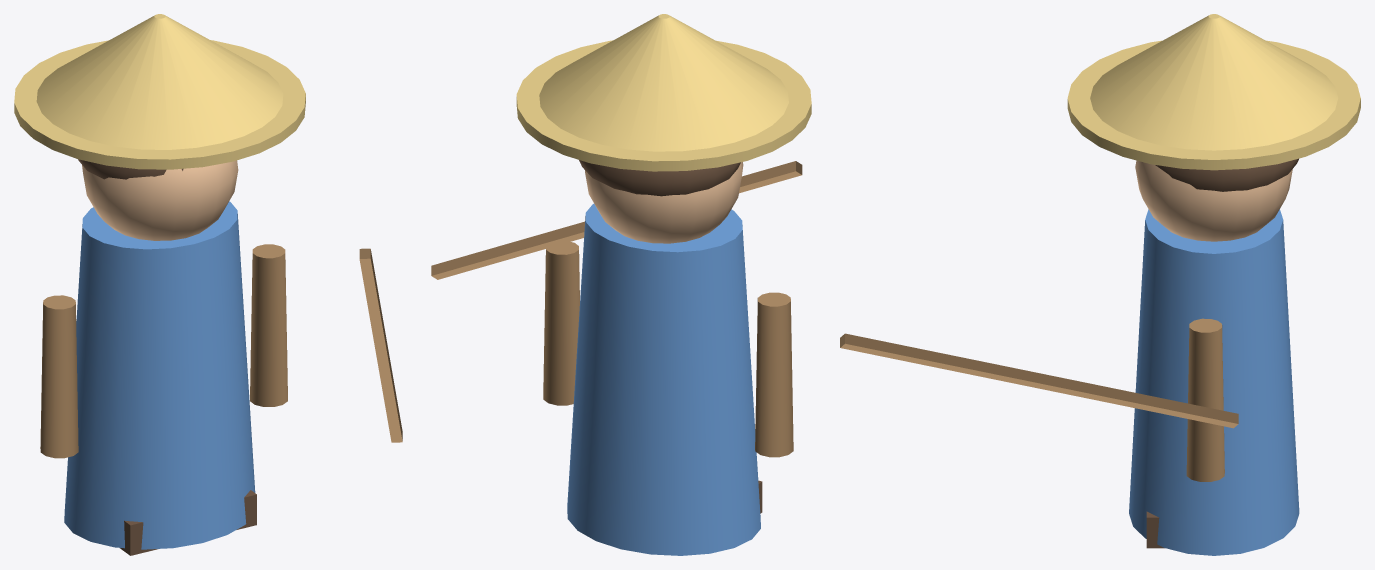
File: player_base_character.glb
3 views of the same model, side by side, from view 1: azimuth 30°, elevation 25°; view 2: azimuth 150°, elevation 25°; view 3: azimuth 270°, elevation 25° (orthographic).
Visible parts, largest first — view 1: body_coat, straw_hat, arms_and_rod, head, boots, hair_cap; view 2: body_coat, straw_hat, arms_and_rod, head, hair_cap; view 3: body_coat, straw_hat, arms_and_rod, head, hair_cap.
Boxes of the visible parts, <box> form: body_coat: <box>64,201,255,549</box>; straw_hat: <box>14,14,305,169</box>; arms_and_rod: <box>40,244,402,458</box>; head: <box>82,160,238,240</box>; boots: <box>120,490,256,555</box>; hair_cap: <box>78,159,183,179</box>; body_coat: <box>567,203,760,555</box>; straw_hat: <box>516,14,811,171</box>; arms_and_rod: <box>431,161,802,457</box>; head: <box>585,162,743,243</box>; hair_cap: <box>579,160,740,196</box>; body_coat: <box>1129,209,1299,555</box>; straw_hat: <box>1067,14,1360,170</box>; arms_and_rod: <box>840,318,1238,481</box>; head: <box>1135,160,1292,241</box>; hair_cap: <box>1155,158,1298,191</box>.
Bounding box in the file's own units: 1.43 × 1.96 × 1.85.
